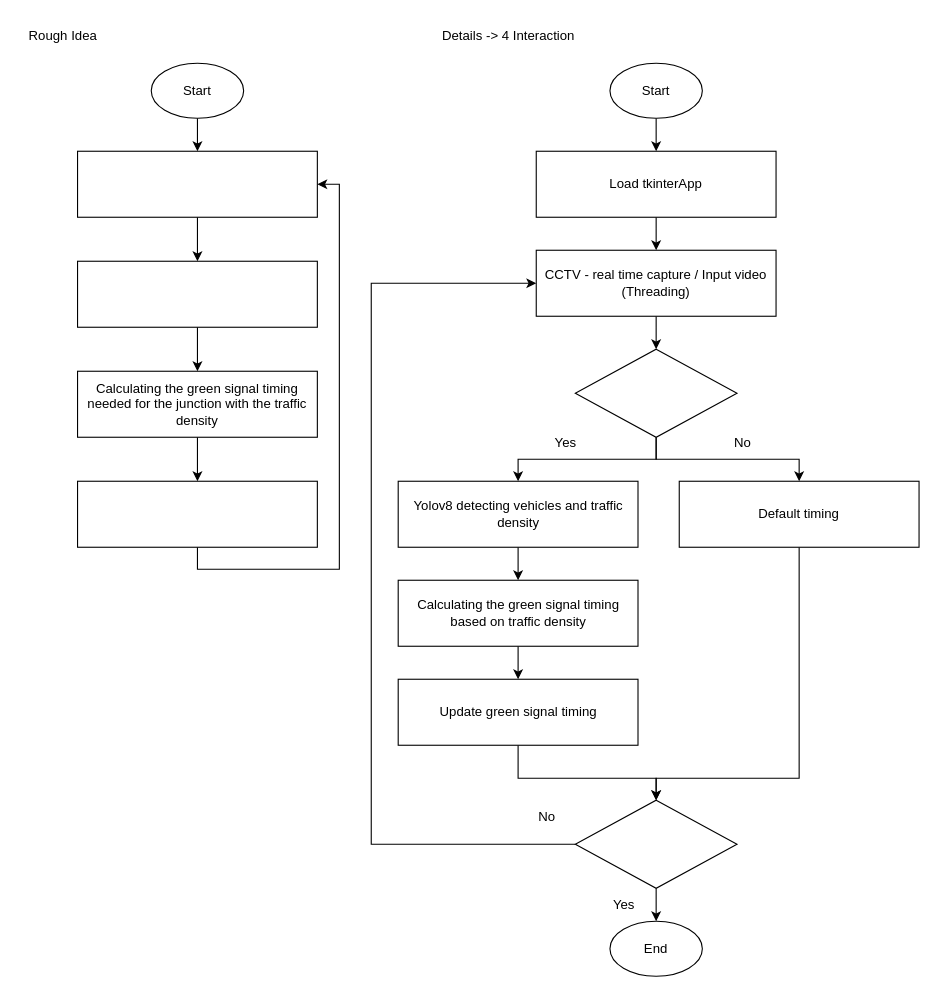
The diagram is 938 pixels wide and 996 high, and some of its shapes have lost their labels. Here are the shapes that lost their labels. From the top down, the box of each, then its label:
(76, 150, 317, 217): CCTV - real time capture / Input video
(76, 260, 317, 327): Yolov8 detecting the vehicles and the traffic density
(574, 348, 737, 437): Input? CCTV / videos
(76, 480, 317, 547): Update the green signal timing for the junction
(574, 799, 737, 888): Exit?
